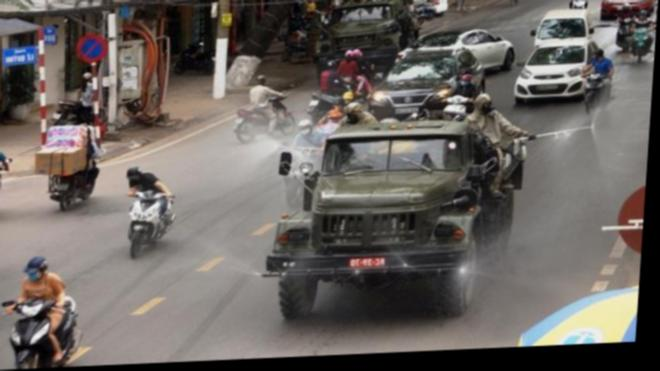License_Plate: (348, 256, 388, 270), (390, 104, 422, 116), (535, 82, 561, 92), (53, 180, 70, 194), (233, 115, 245, 127)
